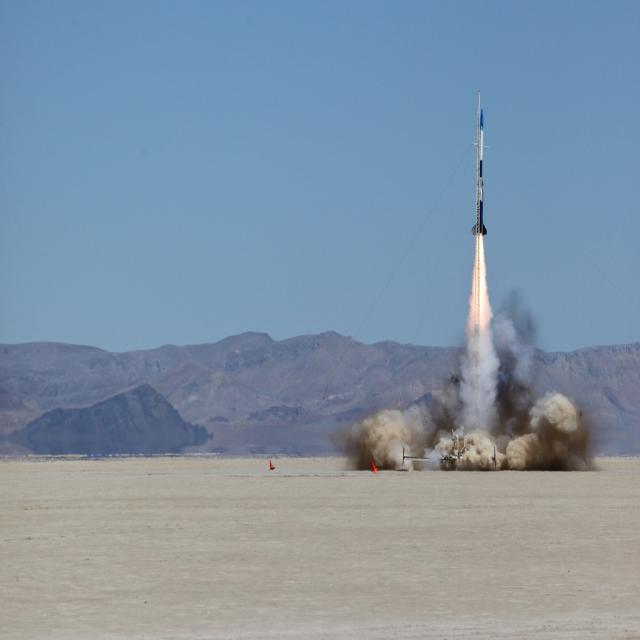missile: (466, 90, 494, 242)
